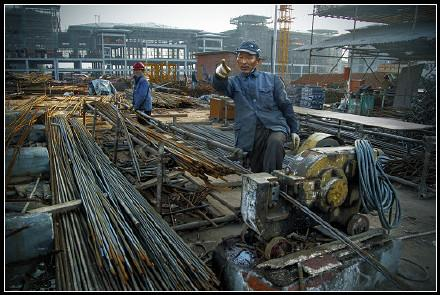helmet: (132, 62, 146, 72)
